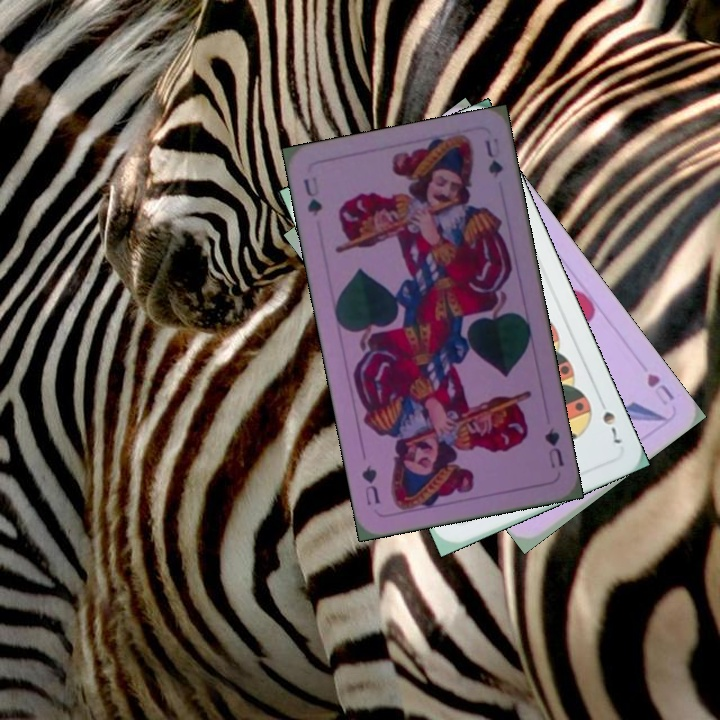GU: (540, 423, 566, 471), (299, 172, 325, 219)
HU: (642, 369, 678, 409)
S7: (594, 393, 624, 447)
